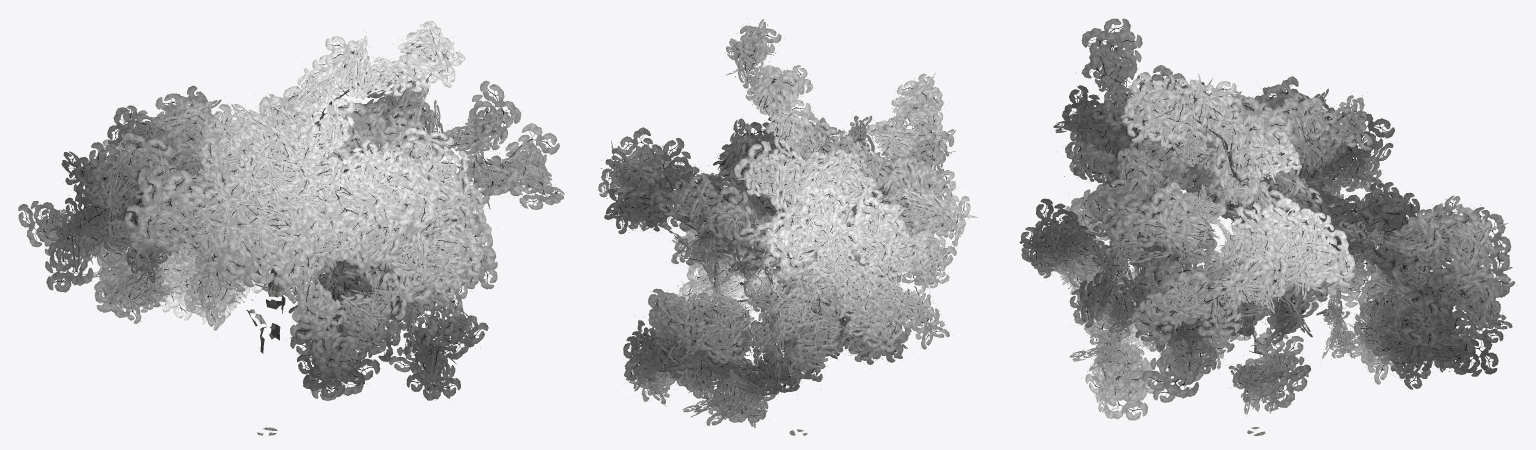
The model's file is tree_ginkgo.glb.
The picture shows the model from 3 angles, left to right: view 1: azimuth 30°, elevation 25°; view 2: azimuth 150°, elevation 25°; view 3: azimuth 270°, elevation 25°; orthographic projection. The views are drawn at different scales.
Parts seen in each view (by area): view 1: tree_ginkgo; view 2: tree_ginkgo; view 3: tree_ginkgo.
Part boxes in pixels (x1=…): tree_ginkgo: x1=18, y1=21, x2=564, y2=435; tree_ginkgo: x1=598, y1=19, x2=977, y2=435; tree_ginkgo: x1=1019, y1=18, x2=1515, y2=435.
Bounding box in the file's own units: 11.25 × 10 × 11.22.
Materials: 1 (1 with a texture image).
